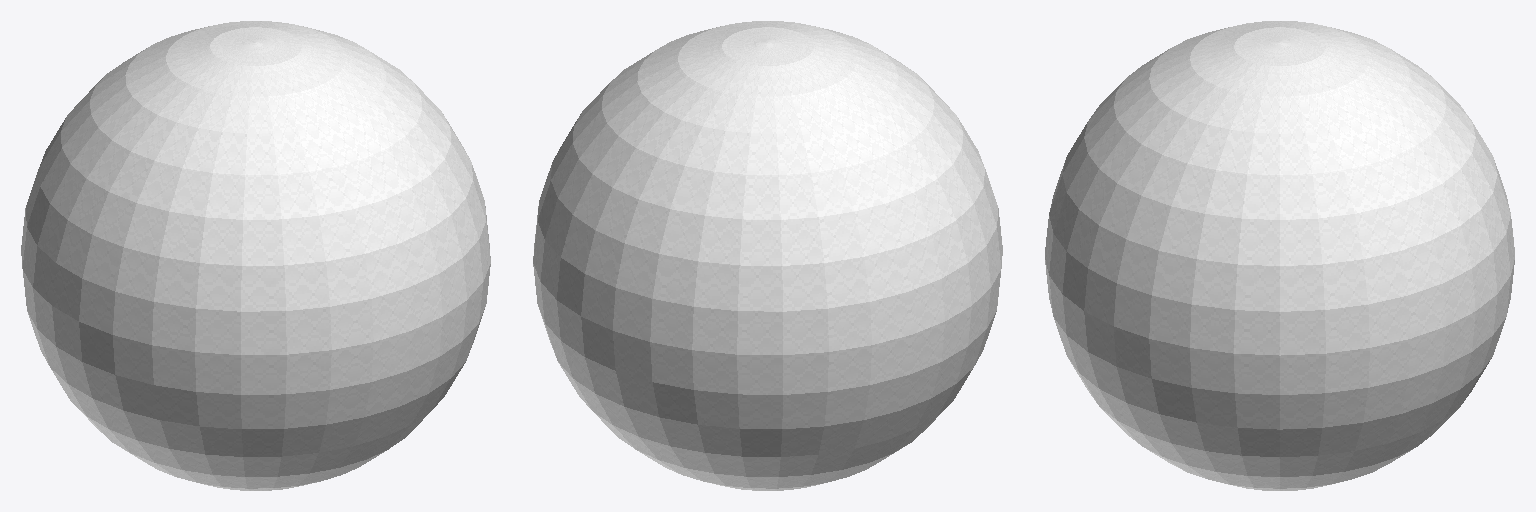
3 renders of one model, left to right at view 1: azimuth 30°, elevation 25°; view 2: azimuth 150°, elevation 25°; view 3: azimuth 270°, elevation 25°, orthographic.
Parts seen in each view (by area): view 1: Sphere001; view 2: Sphere001; view 3: Sphere001.
Part boxes in pixels (left/top/right/bottom): Sphere001: left=21, top=21, right=490, bottom=490; Sphere001: left=533, top=21, right=1002, bottom=490; Sphere001: left=1045, top=21, right=1514, bottom=490.
Size of the model in its own units: 3.5 by 3.5 by 3.5.
Materials: 1 (1 with a texture image).